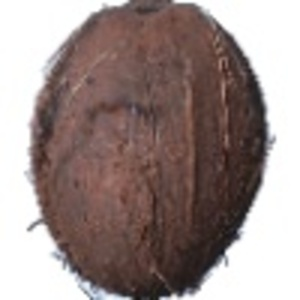coco: (30, 2, 274, 300)
